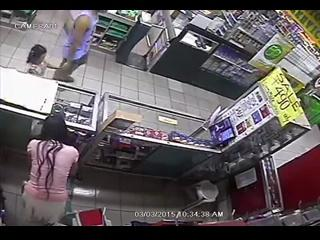Normal: (20, 112, 80, 224), (52, 11, 99, 81)
